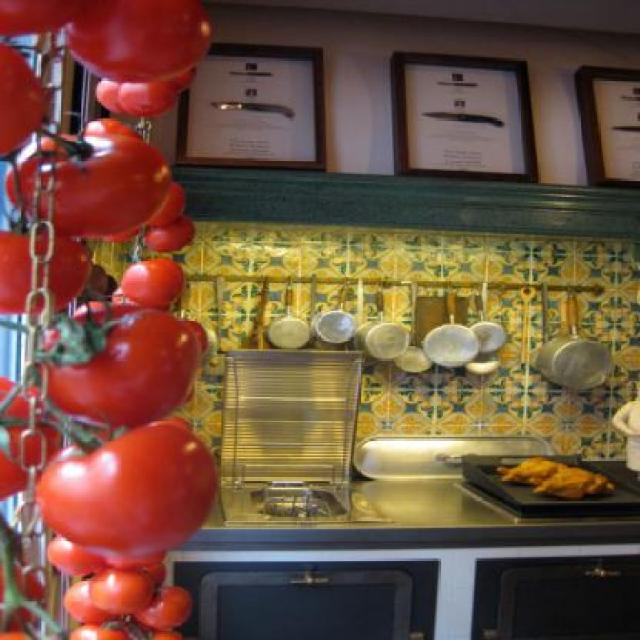Tomato: (0, 0, 218, 638), (31, 422, 217, 580)
